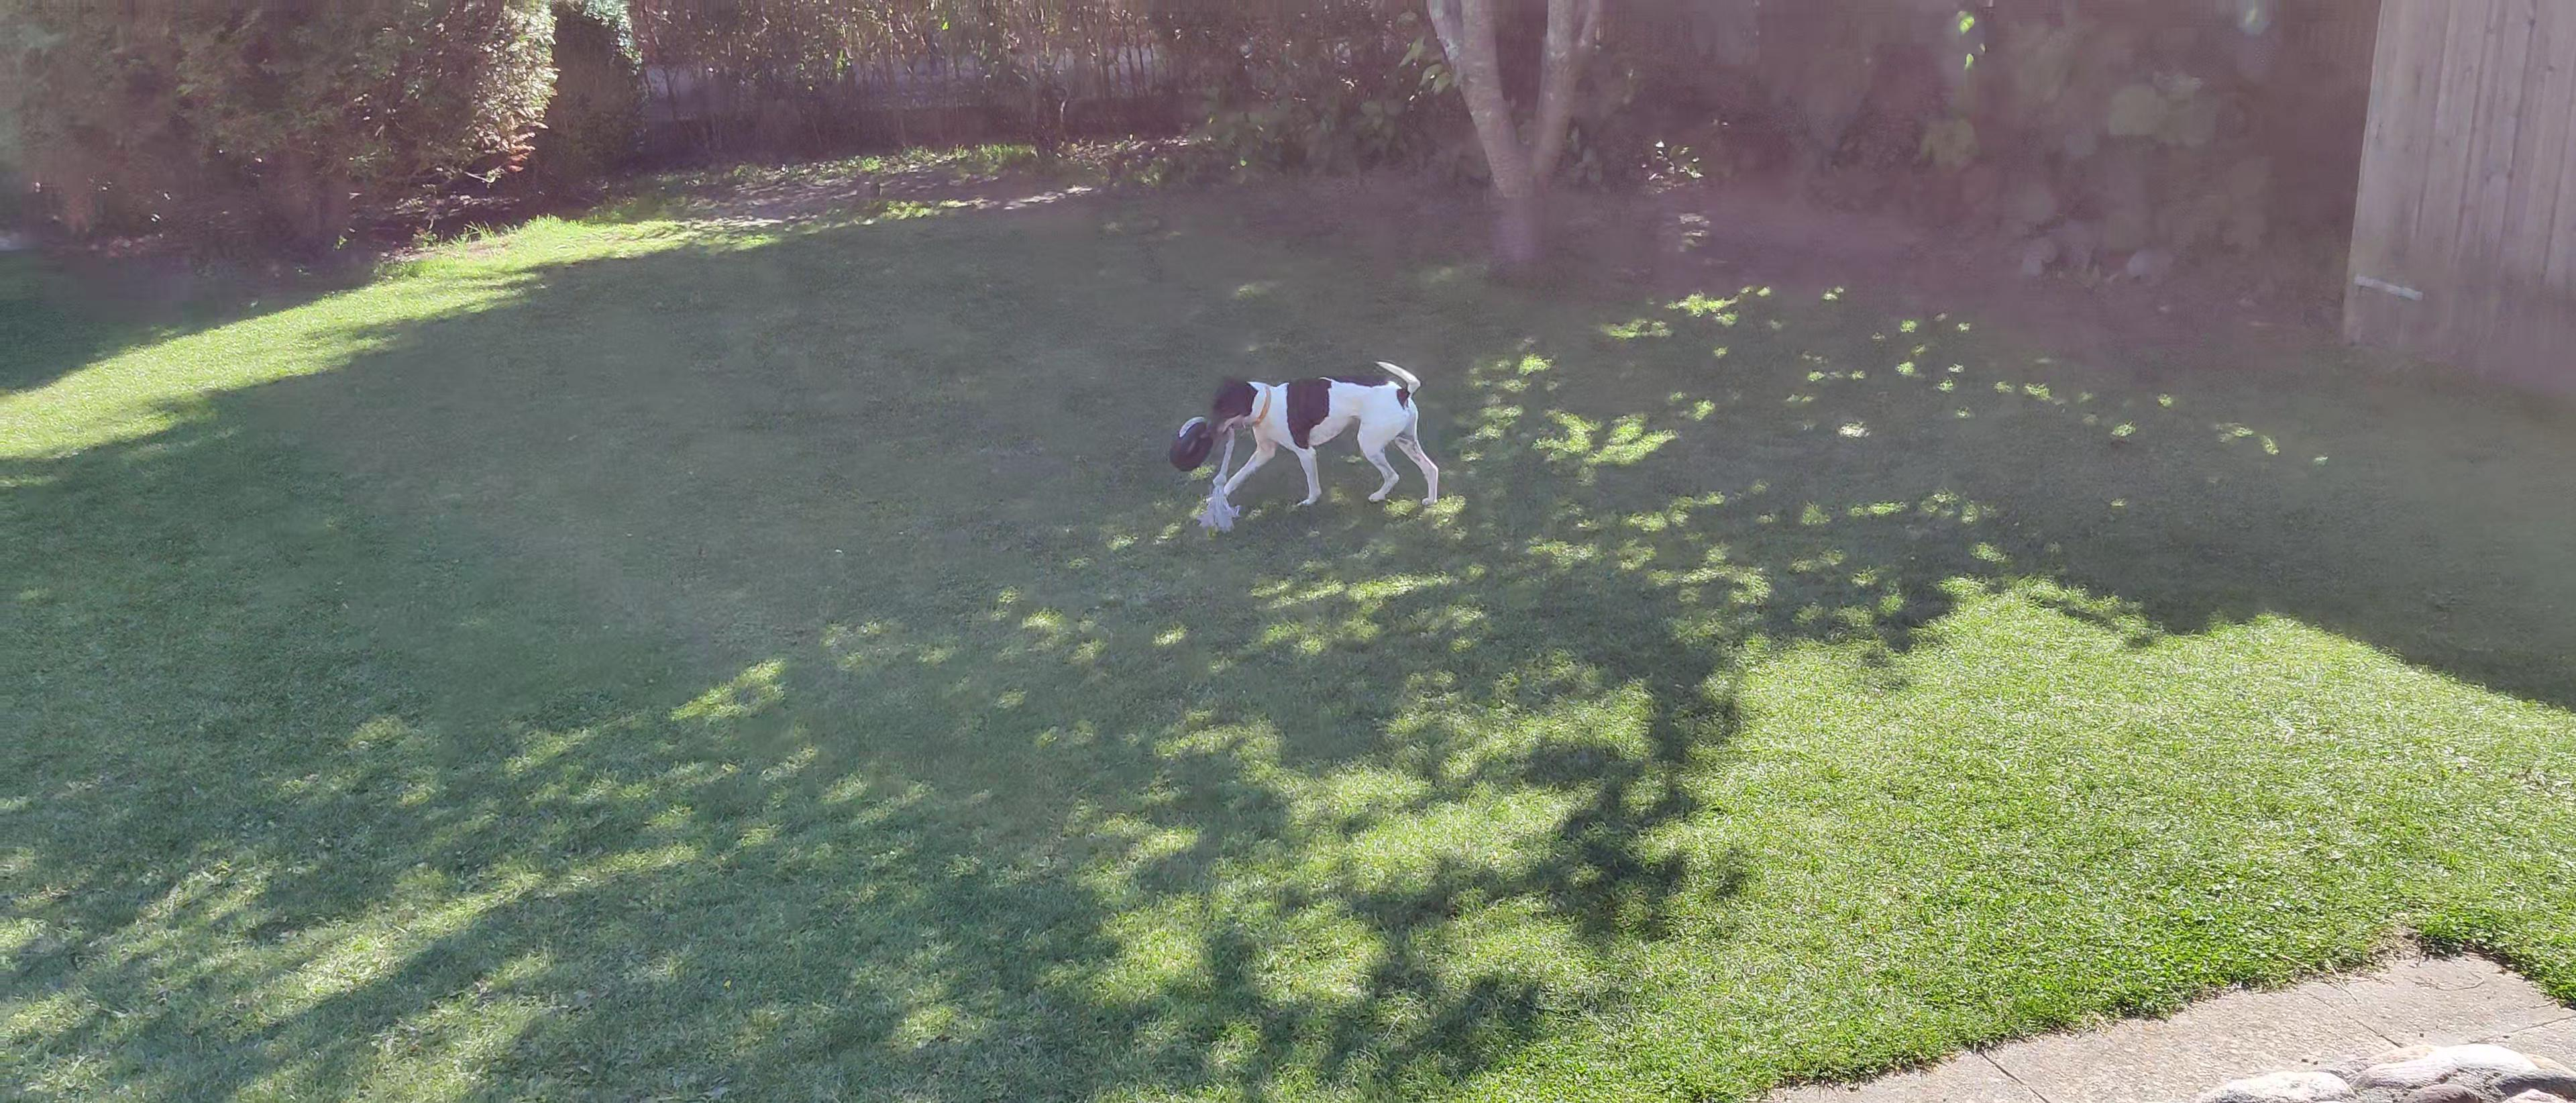Dog: (1203, 355, 1444, 506)
